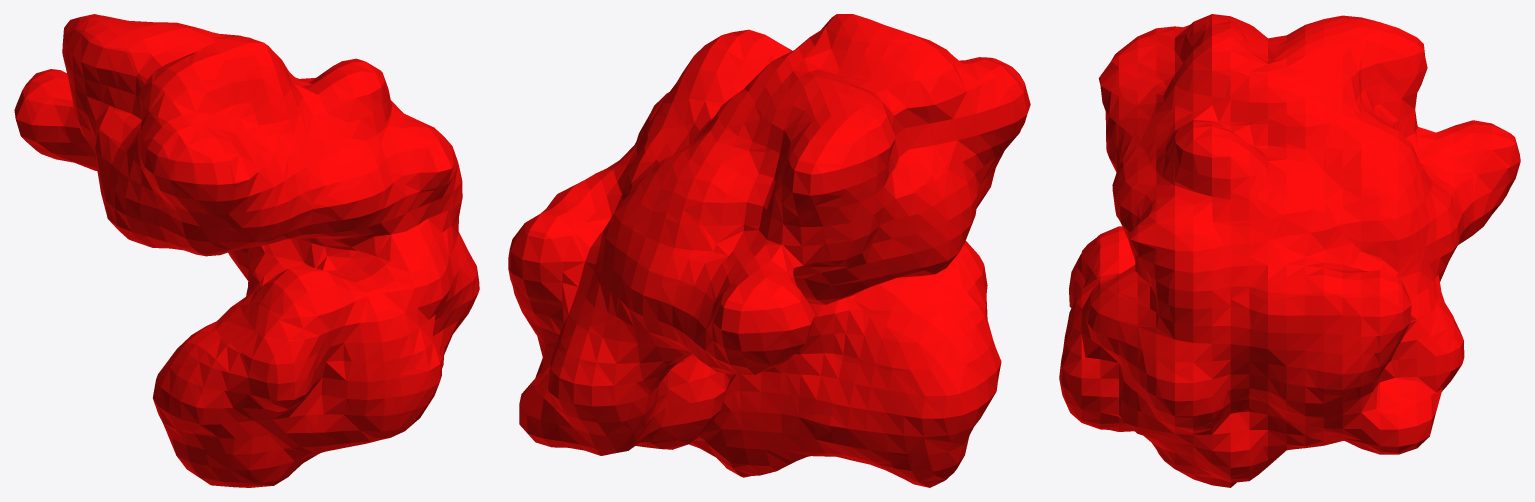
Rendered from yidR_coarse.dae.
3 views of the same model, side by side, from view 1: azimuth 30°, elevation 25°; view 2: azimuth 150°, elevation 25°; view 3: azimuth 270°, elevation 25° (orthographic). The views are drawn at different scales.
Parts seen in each view (by area): view 1: yidR; view 2: yidR; view 3: yidR.
Boxes of the visible parts, left/top/right/bottom form: yidR: left=14, top=14, right=479, bottom=487; yidR: left=508, top=14, right=1030, bottom=487; yidR: left=1059, top=14, right=1520, bottom=487.
Size of the model in its own units: 56.96 by 65.81 by 67.36.
